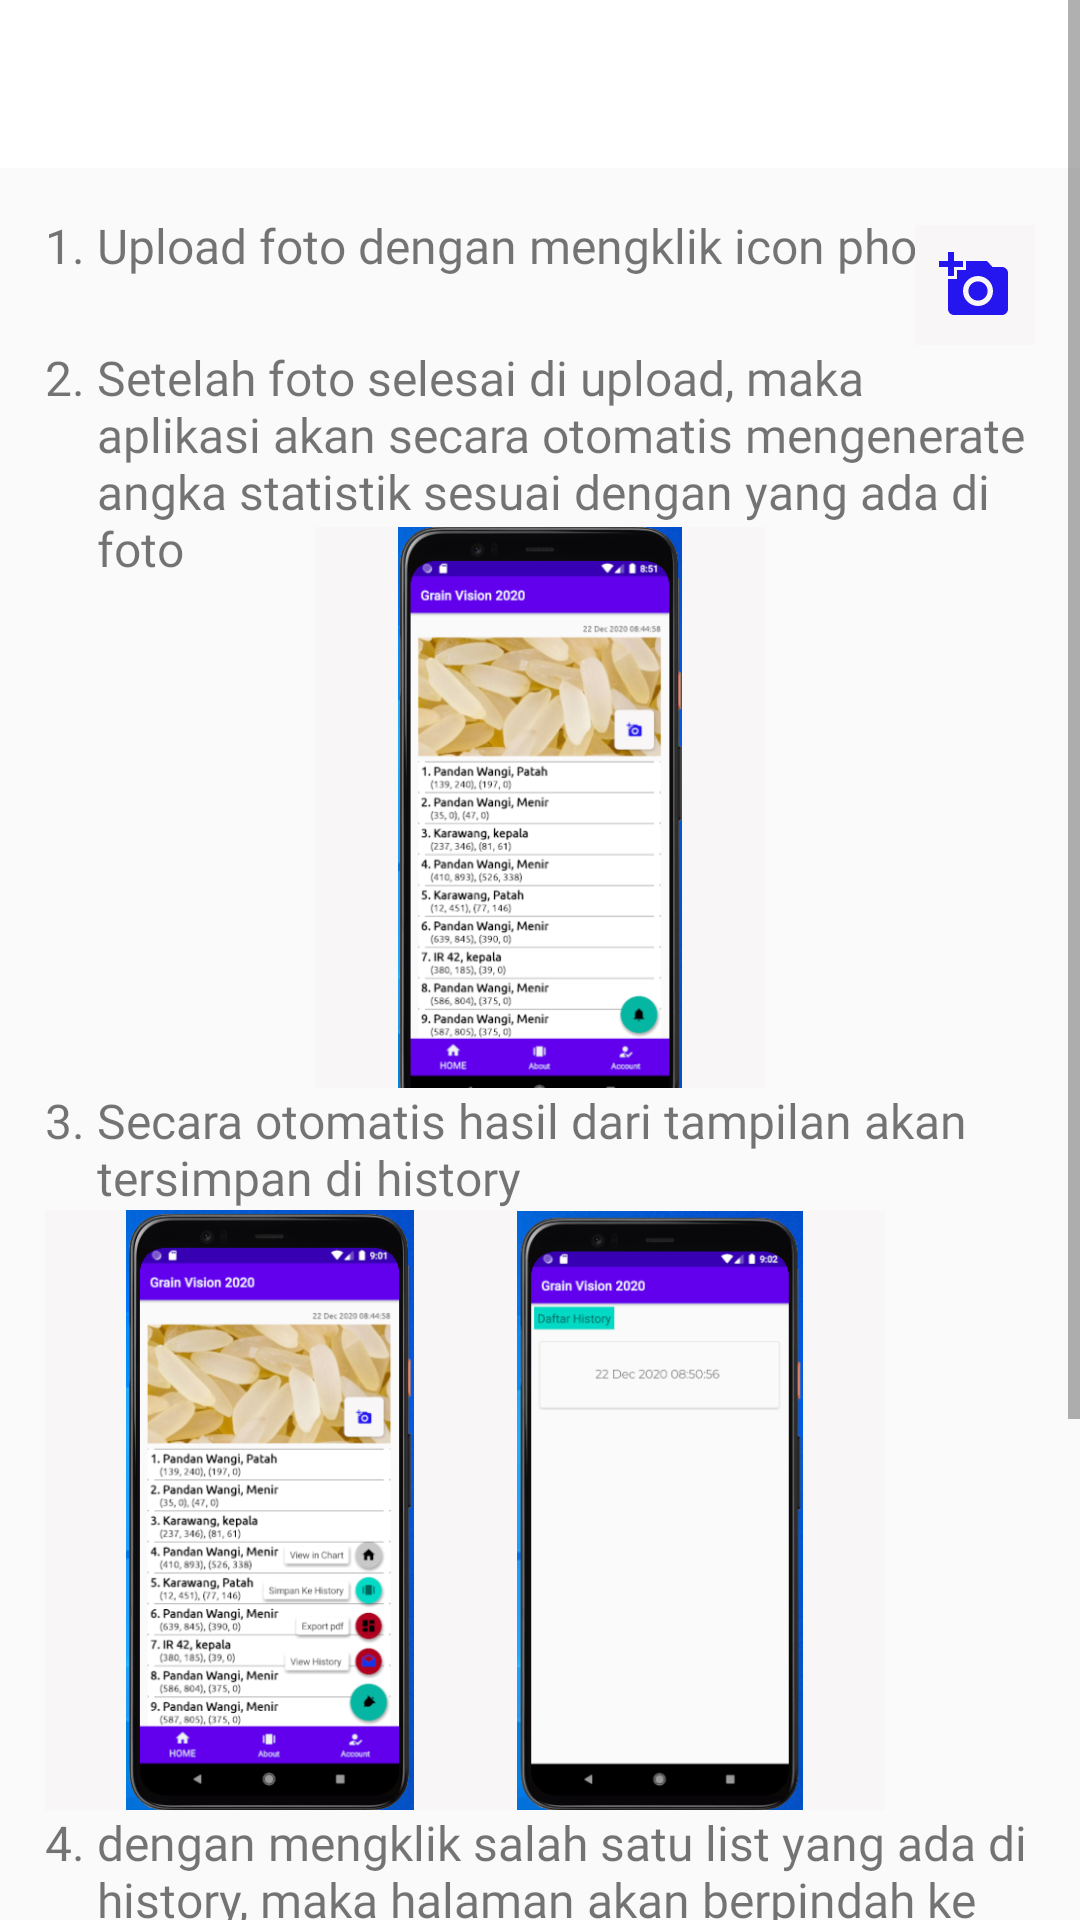

Icon click points for this 1080 × 1920 phone screenshot, format (x=x, y=y):
add photo: (x=973, y=283)
